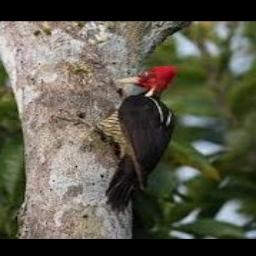Woodpecker: (56, 65, 179, 212)
